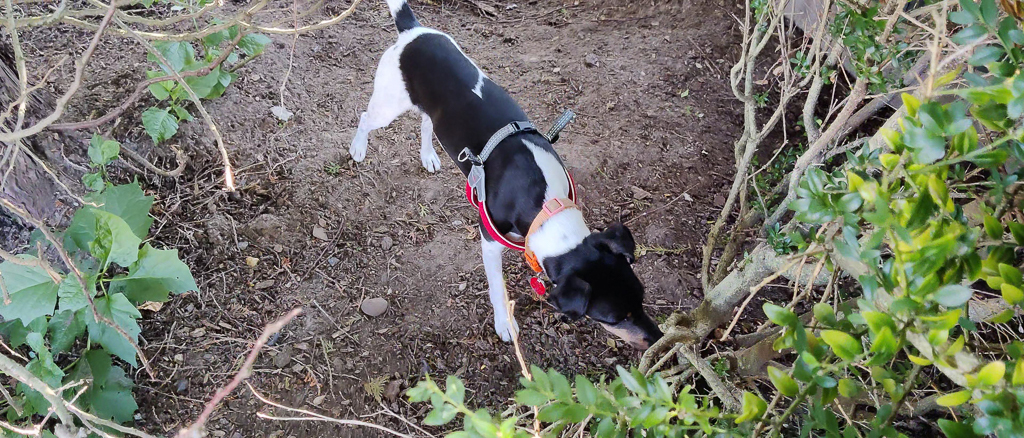Dog: (341, 0, 684, 369)
